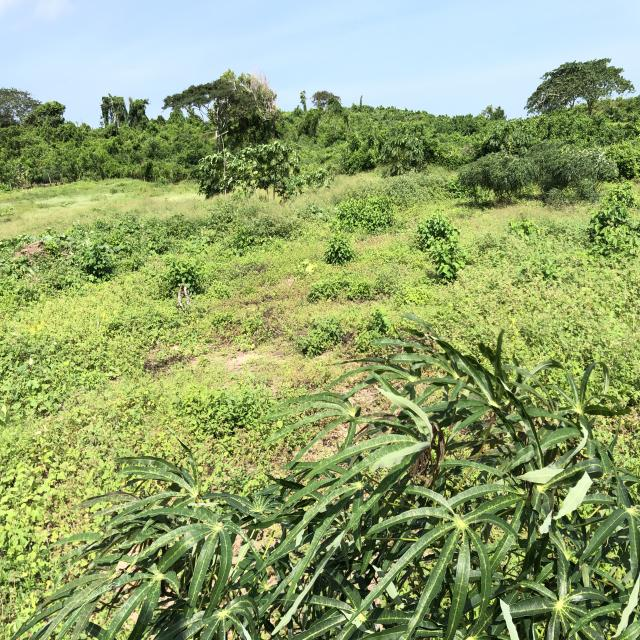Maleza: (5, 167, 214, 348), (249, 185, 459, 322), (455, 184, 638, 339), (172, 194, 276, 460), (30, 255, 176, 444), (0, 329, 91, 530)
